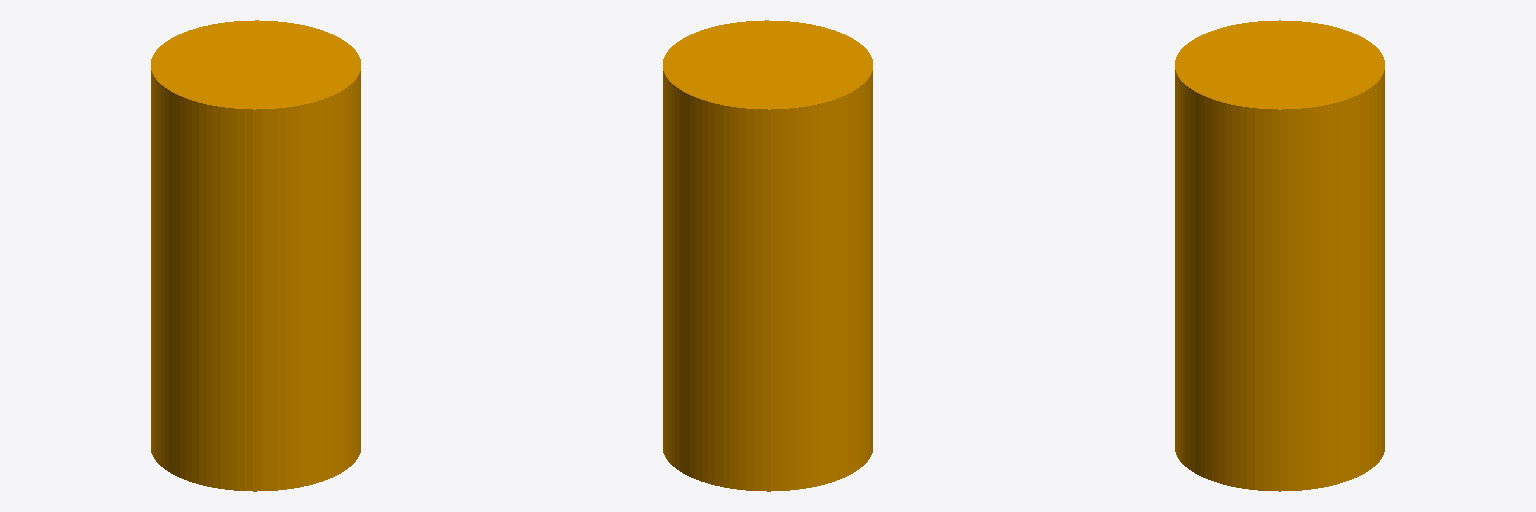
The robot description file, URDF, robot "red_round_peg_15in":
<?xml version="1.0"?>
<robot name="red_round_peg_15in">
    <link name="red_round_peg_15in">
        <visual>
         <!--origin xyz="0 0 0.0254" rpy="1.57079632679 0 1.57079632679"-->
            <geometry>
                <mesh filename="../mesh/factory_insertion/red_round_peg_1_5in.obj"/>
            </geometry>
        </visual>
        <collision>
         <!--origin xyz="0 0 0.0254" rpy="1.57079632679 0 1.57079632679"-->
            <geometry>
                <mesh filename="../mesh/factory_insertion/red_round_peg_1_5in.obj"/>
            </geometry>
        </collision>
    </link>
</robot>

--- Render facts (derived) ---
Views: 3 orthographic renders of the robot side by side, from view 1: azimuth 30°, elevation 25°; view 2: azimuth 150°, elevation 25°; view 3: azimuth 270°, elevation 25°.
Robot: red_round_peg_15in — 1 links, 0 joints (none); root link red_round_peg_15in; default pose: all joints at 0.
Links seen in each view (by area): view 1: red_round_peg_15in; view 2: red_round_peg_15in; view 3: red_round_peg_15in.
Boxes of the visible links, box(x1,y1,x2,y2) form: red_round_peg_15in: box(151, 20, 360, 491); red_round_peg_15in: box(663, 20, 872, 491); red_round_peg_15in: box(1175, 20, 1384, 491).
Size in the robot's own frame: 0.0381 by 0.0381 by 0.0762 metres.
1 mesh visuals loaded from 1 distinct referenced files (1 OBJ).
